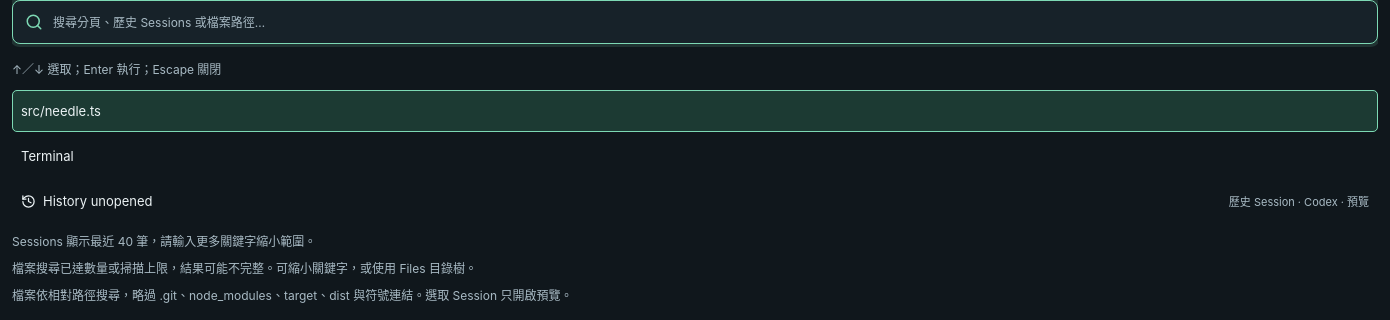
supports arrow selection, IME guards and partial failures with explicit bounds
Expected: the text "Sessions 顯示最近 40 筆，請輸入更多關鍵字縮小範圍。" is shown, [12,234,316,249]
Expected: the text "檔案搜尋已達數量或掃描上限，結果可能不完整。可縮小關鍵字，或使用 Files 目錄樹。" is shown, [12,261,477,276]
Press ArrowDown in the dropdown, box [53,6,1365,38]
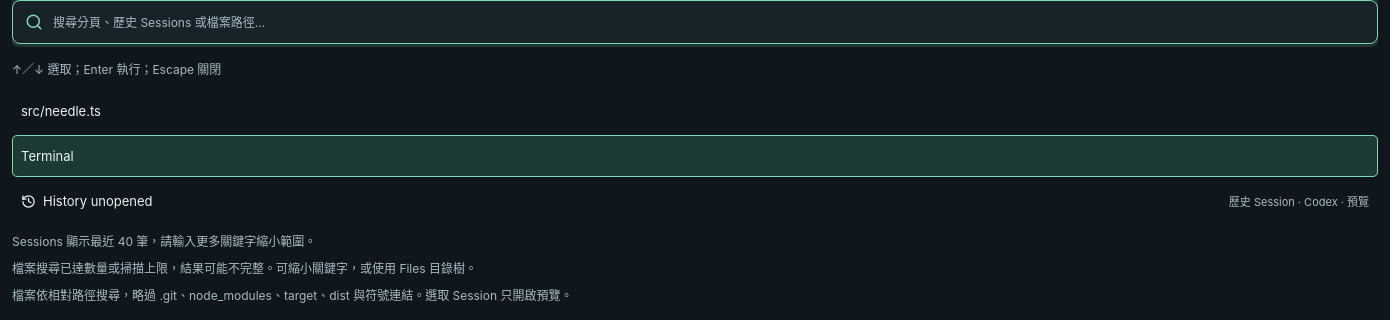
Press Enter in the dropdown, box [53,6,1365,38]
Press Enter in the dropdown, box [53,6,1365,38]
Type "History" into the dropdown at x=709, y=22, box [53,6,1365,38]
Wait 200 ms
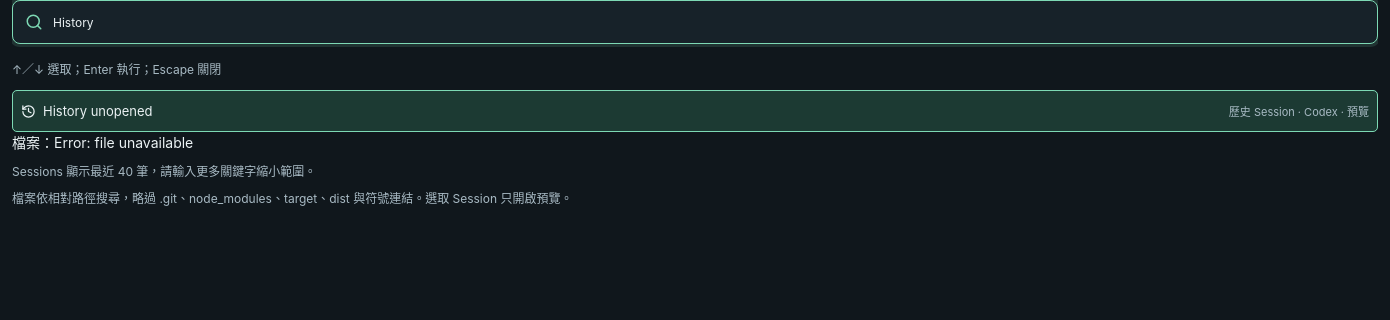
Expected: the option "History unopened 歷史 Session · Codex · 預覽" is shown, [12,90,1378,132]
Now the message "檔案：Error: file unavailable" is shown, box [12,134,193,151]
